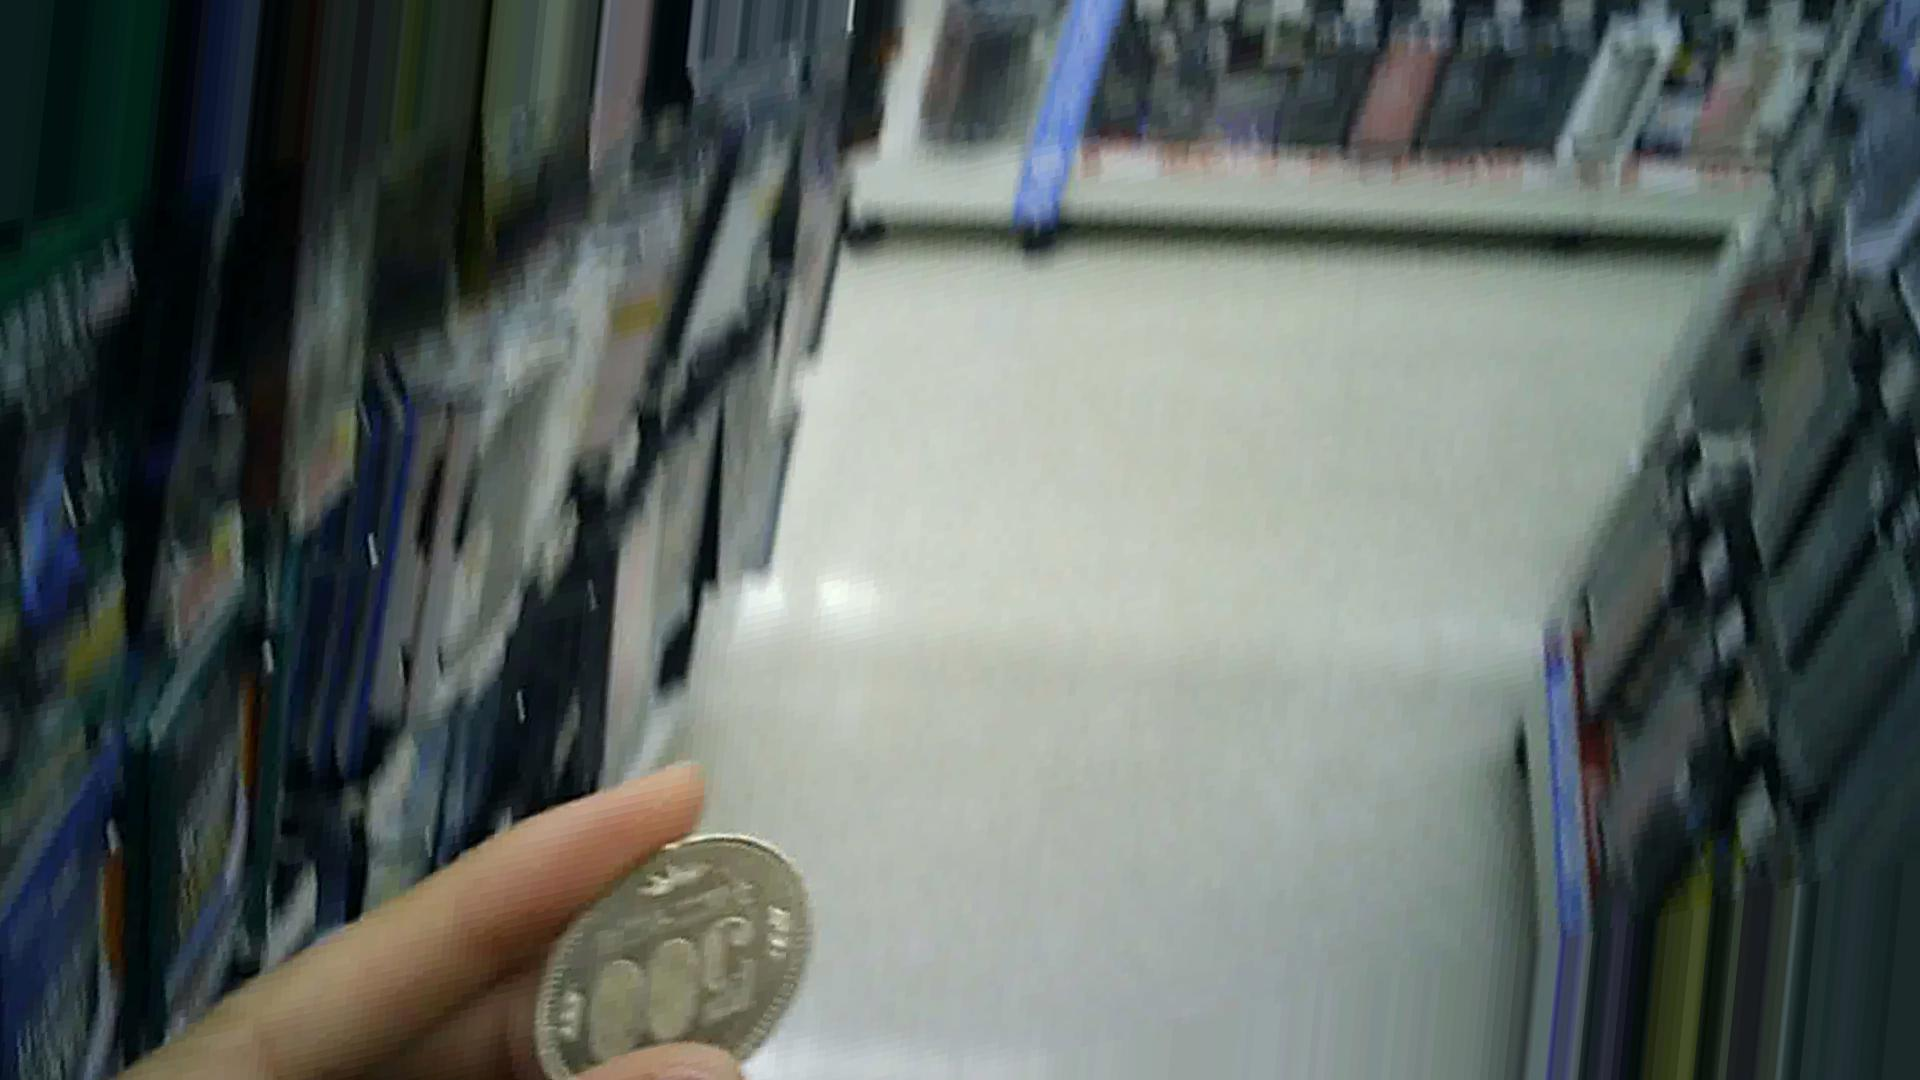500 Yen: (537, 803, 819, 1079)
